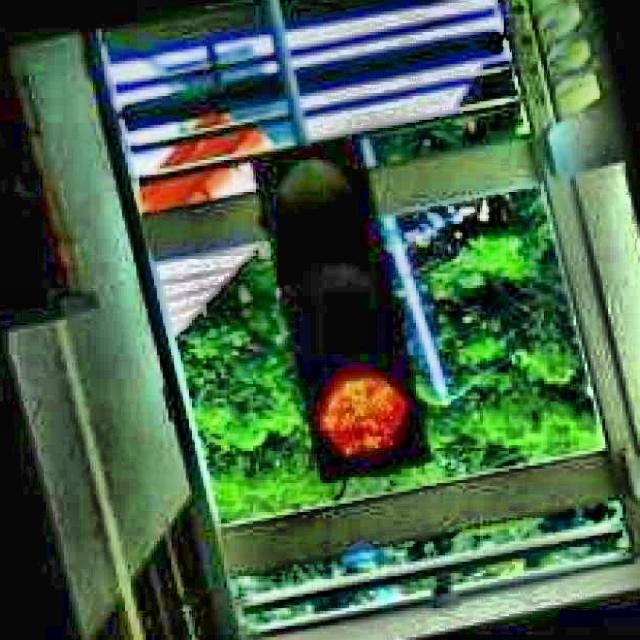red: (252, 144, 426, 470)
